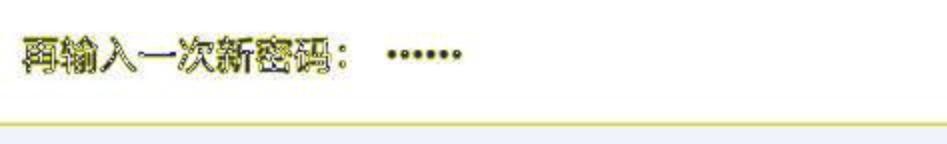EditText: (1, 1, 946, 143)
